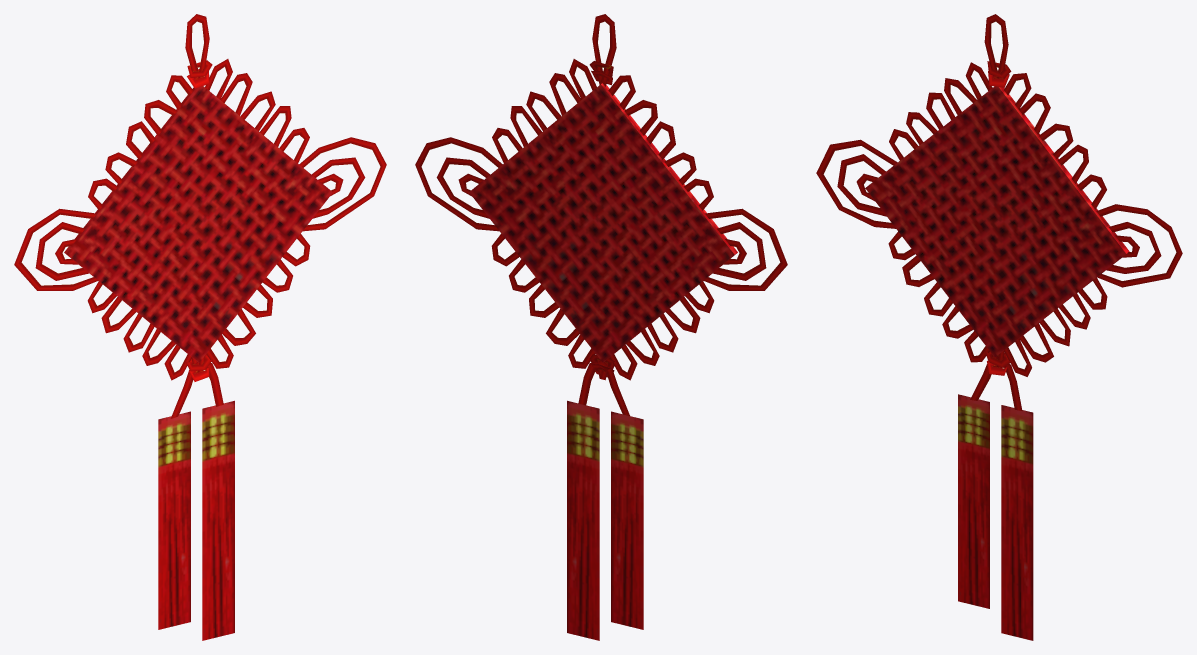
Rendered from furni_0200230.FBX.
3 views of the same model, side by side, from view 1: azimuth 30°, elevation 25°; view 2: azimuth 150°, elevation 25°; view 3: azimuth 330°, elevation 25° (orthographic).
Parts seen in each view (by area): view 1: furni_0200230; view 2: furni_0200230; view 3: furni_0200230.
Part boxes in pixels (x1=…): furni_0200230: x1=14, y1=14, x2=386, y2=640; furni_0200230: x1=415, y1=14, x2=787, y2=640; furni_0200230: x1=816, y1=14, x2=1182, y2=640.
Size of the model in its own units: 80.08 by 129 by 1.48.
1 material, 1 textured.
